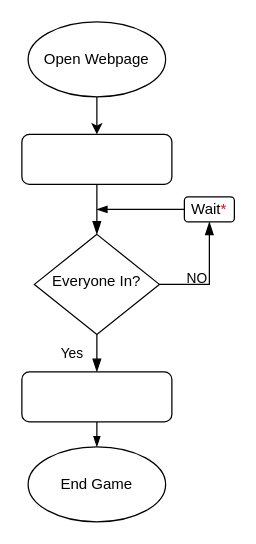
Some shapes in this 256 by 544 pixel diagram are drawn without their labels. Here are the shapes that lost their labels. From the top down, the centre of each, then its label:
point 96,158: Join Game
point 96,396: Start Game
